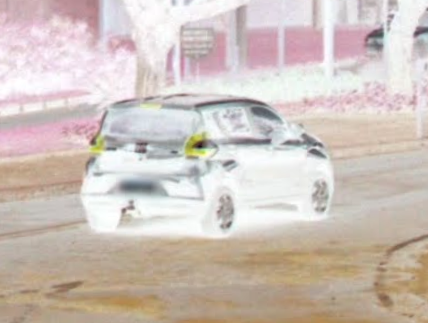car: (73, 80, 339, 236)
